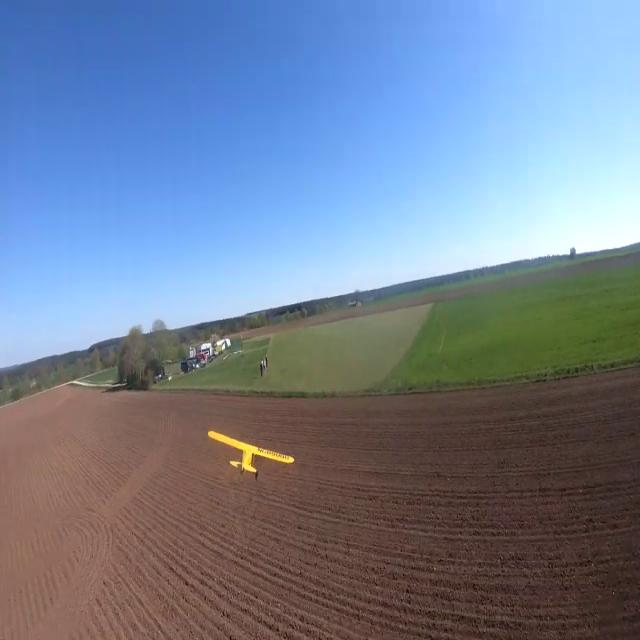iha: (236, 427, 264, 481)
